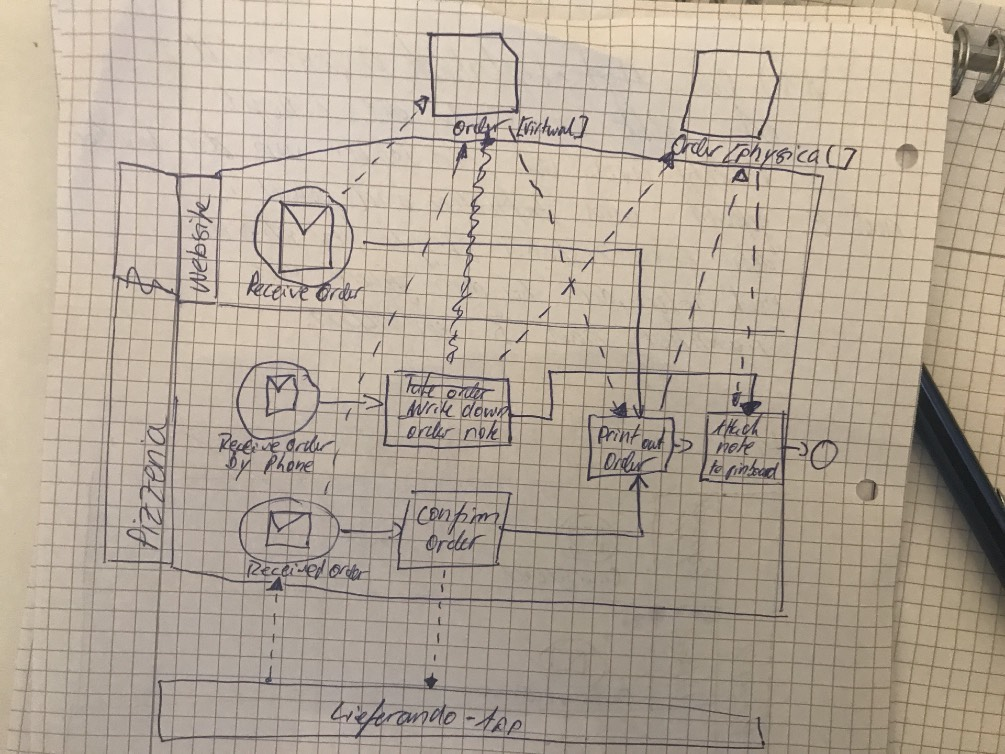App: (475, 703, 526, 736)
Attach: (708, 415, 767, 439)
Lieferando: (326, 697, 462, 732)
Order: (666, 134, 727, 158), (313, 279, 369, 303), (602, 449, 655, 472)
Phone: (262, 453, 318, 477)
Pizzeria: (123, 417, 169, 550)
Print: (596, 423, 645, 447)
Receive: (243, 268, 314, 304), (214, 431, 286, 454)
Received: (243, 559, 330, 582)
Write: (405, 397, 459, 419)
[physical]: (719, 139, 859, 170)
[virtwal]: (515, 113, 592, 141)
by: (223, 447, 255, 476)
confirm: (413, 499, 504, 530)
down: (458, 400, 514, 422)
note: (713, 434, 760, 457), (461, 419, 503, 441)
order: (423, 528, 488, 554), (449, 114, 509, 139), (282, 433, 339, 455), (328, 560, 371, 585), (403, 420, 456, 440)
pinboard: (721, 460, 783, 484)
to: (704, 455, 728, 477)
website: (184, 196, 215, 295)
